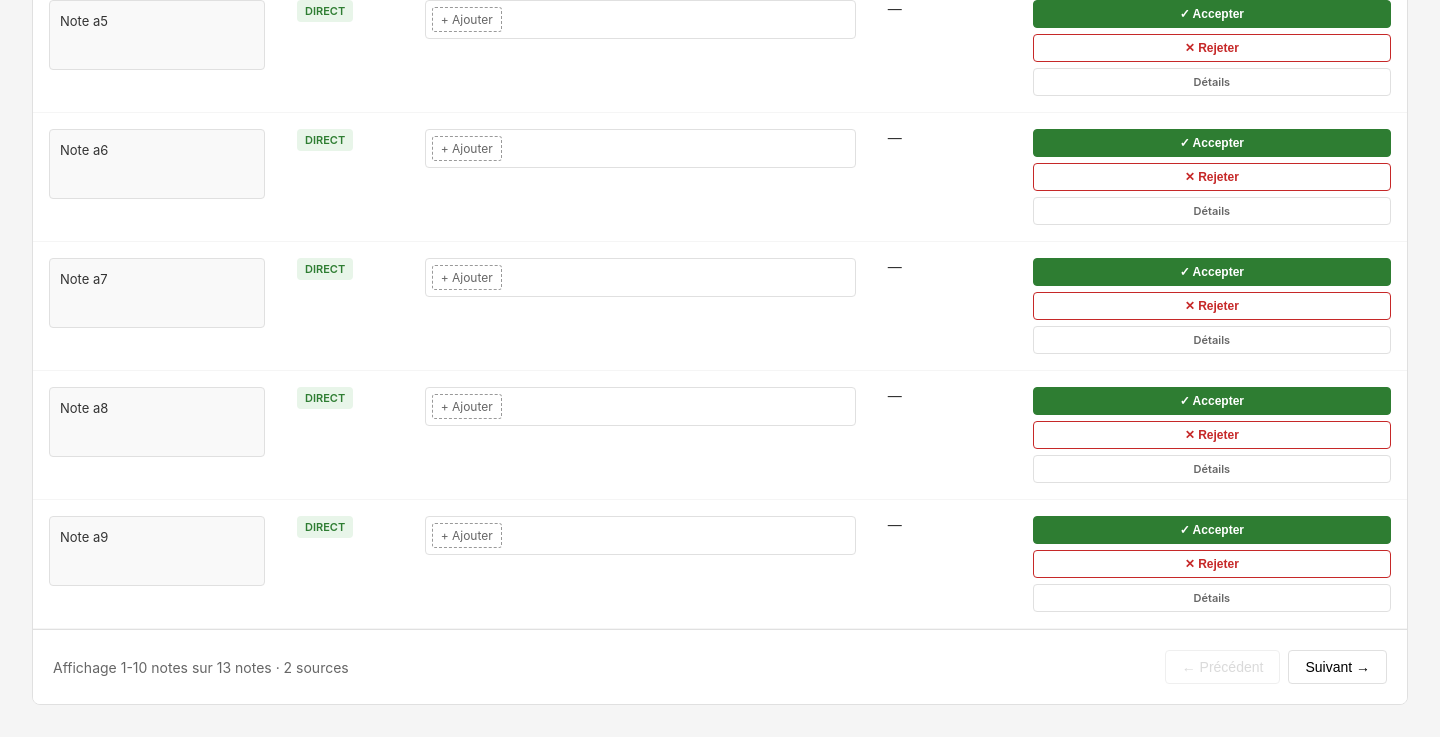
Test case: Validation › regression: accepting the last note on the last page falls back to the previous page instead of an empty state (bug found in code review)
(page scrolled)
Click the button "Suivant →" at [1338, 667], box [1288,650,1387,684]
(page scrolled)
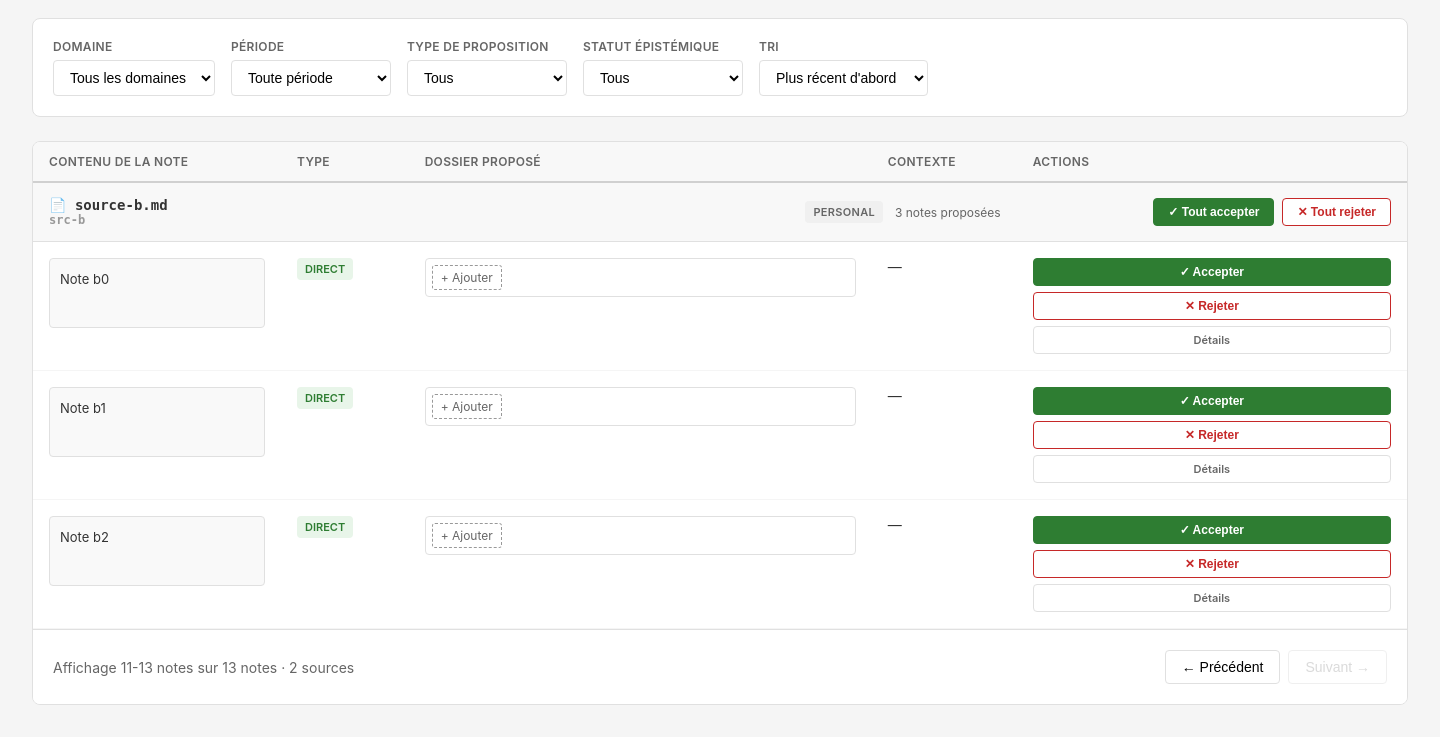
Expected: the text "📄 source-b.md" is shown, [49,197,168,213]
Click the button "✓ Accepter" in the row of "Note b0" at [1212, 272], box [1033,258,1391,286]
(page scrolled)
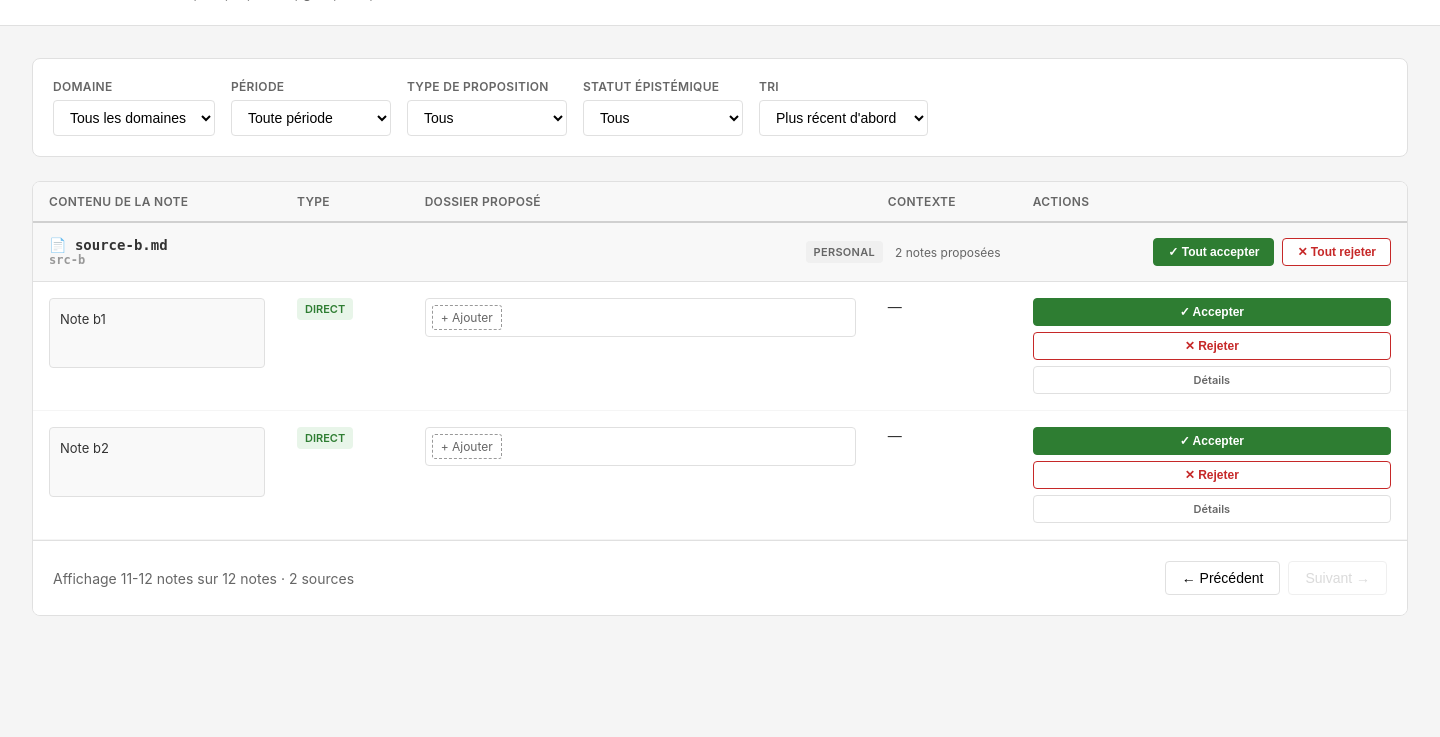
Click the button "✓ Accepter" in the row of "Note b1" at [1212, 312], box [1033,298,1391,326]
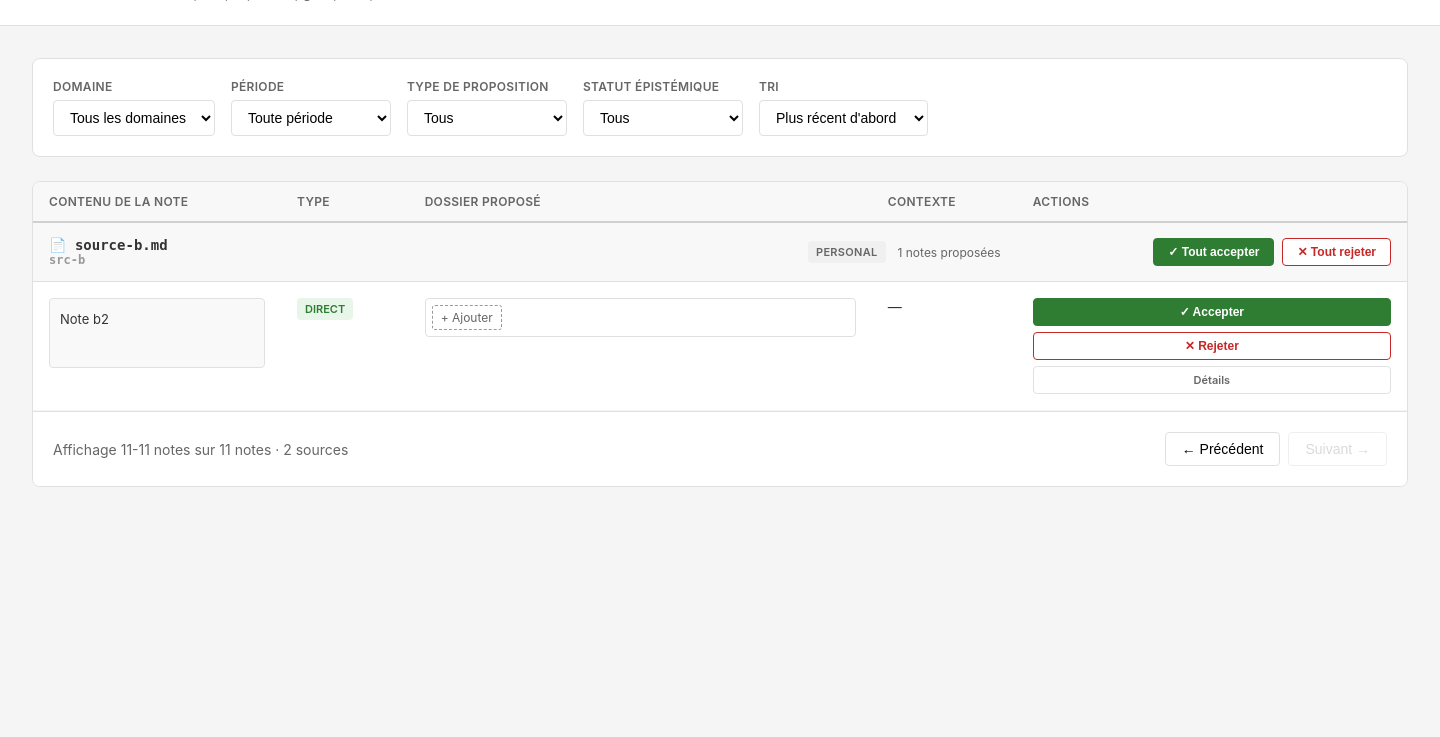
Click the button "✓ Accepter" at [1212, 312], box [1033,298,1391,326]
(page scrolled)
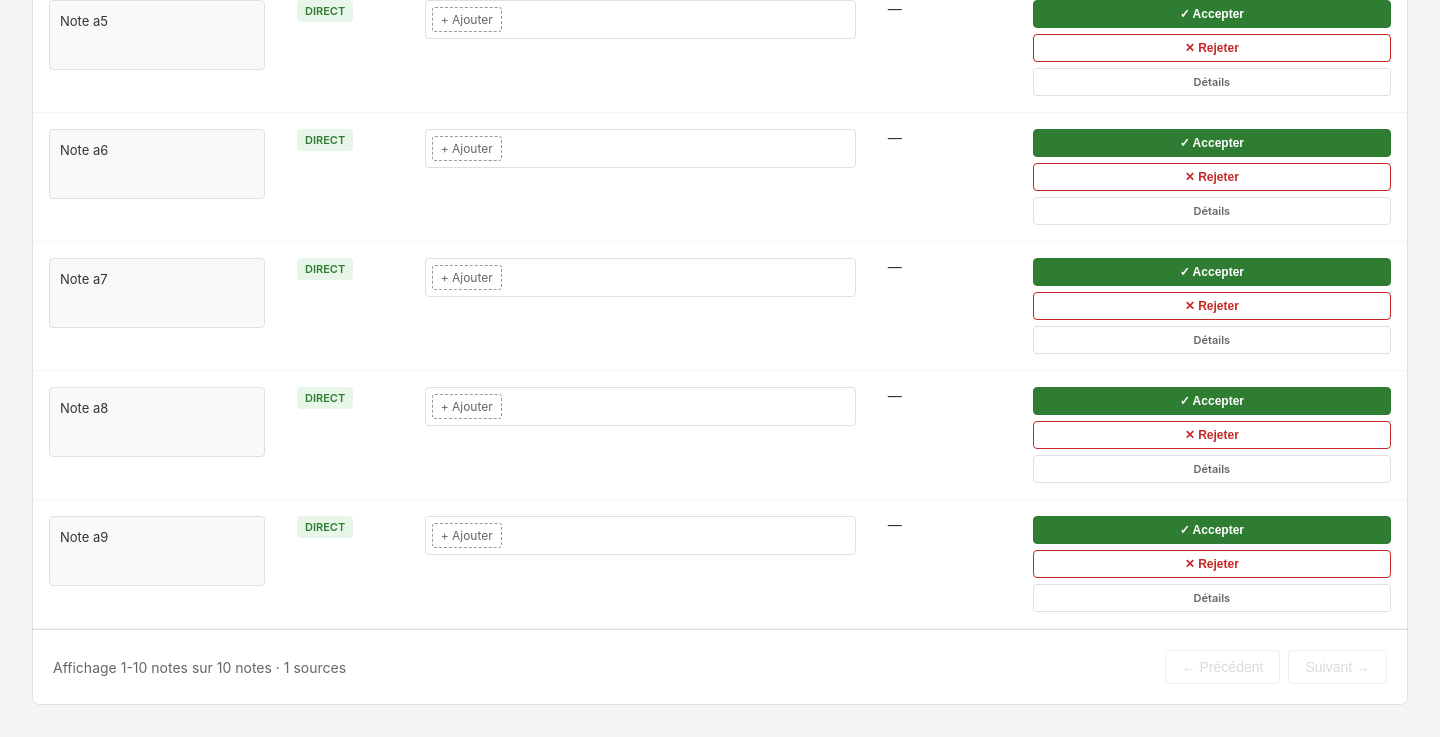
Expected: the text "Affichage 1-10 notes sur 10 notes · 1 sources" is shown, [53,658,346,676]
